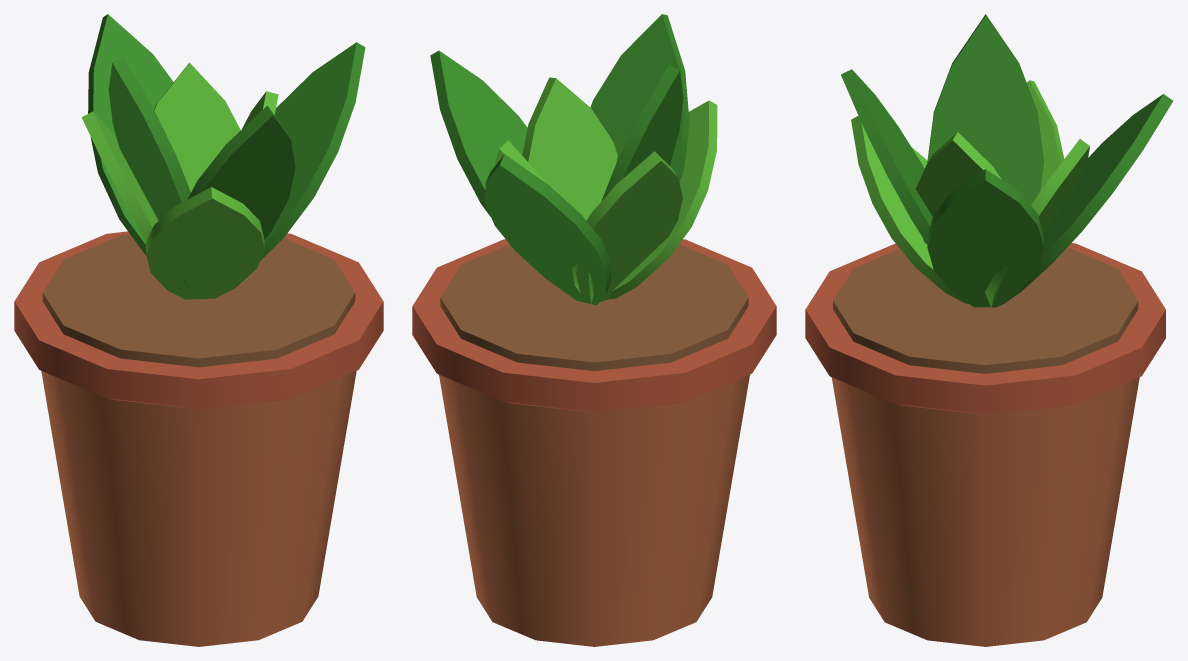
File: PottedPlant.fbx
The picture shows the model from 3 angles, left to right: view 1: azimuth 30°, elevation 25°; view 2: azimuth 150°, elevation 25°; view 3: azimuth 270°, elevation 25°; orthographic projection. The views are drawn at different scales.
Visible parts, largest first — view 1: PottedPlant; view 2: PottedPlant; view 3: PottedPlant.
Boxes of the visible parts, x1,y1,x2,y2 form: PottedPlant: (14, 14, 383, 646); PottedPlant: (412, 14, 776, 646); PottedPlant: (805, 14, 1173, 646).
Bounding box in the file's own units: 1.74 × 2.84 × 1.74.
1 material, 1 textured.
